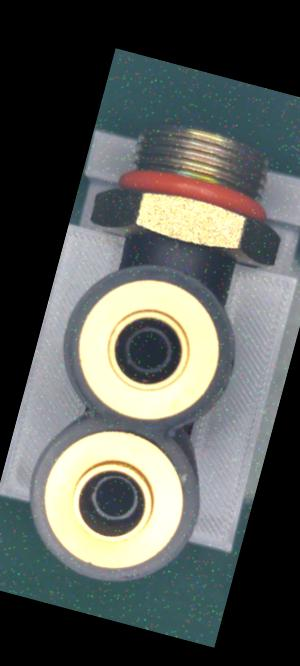white mark: (166, 240, 182, 254)
